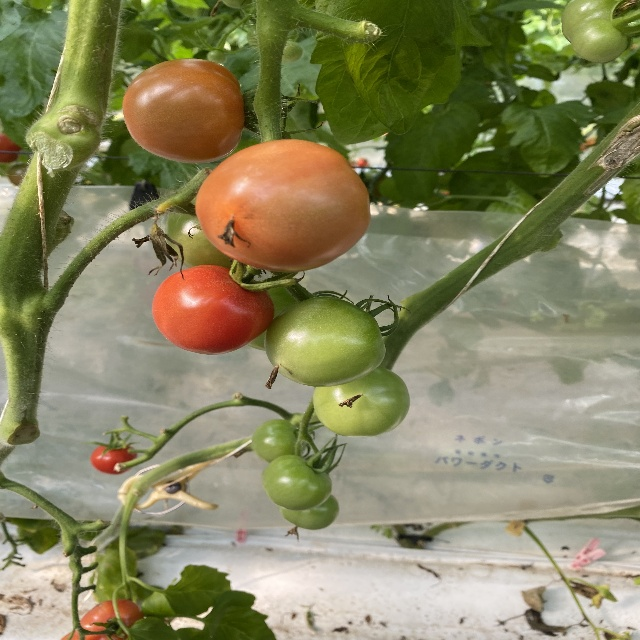l_fully_ripened: (152, 264, 274, 355), (75, 599, 144, 639), (90, 444, 138, 475), (60, 628, 121, 640)
l_green: (265, 297, 385, 387), (163, 184, 262, 279), (313, 367, 411, 437), (262, 454, 332, 511), (562, 0, 640, 44), (570, 17, 628, 64), (279, 493, 340, 530), (253, 420, 305, 463)
l_half_ripened: (195, 139, 371, 274), (123, 57, 247, 163)
